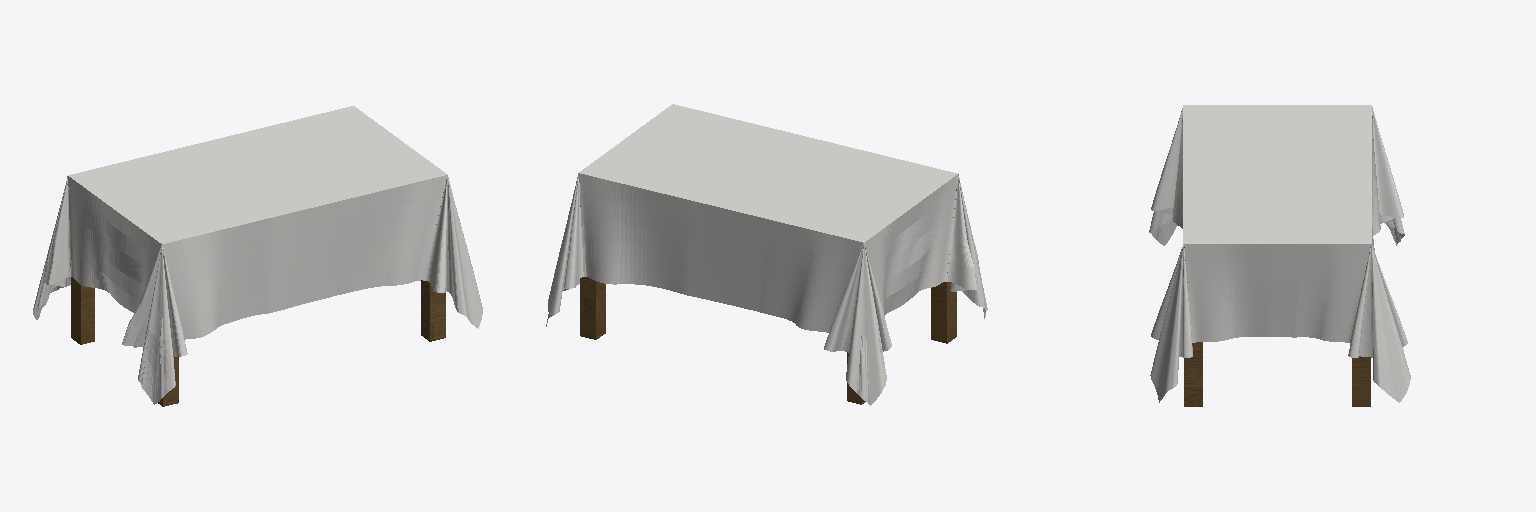
3 renders of one model, left to right at view 1: azimuth 30°, elevation 25°; view 2: azimuth 150°, elevation 25°; view 3: azimuth 270°, elevation 25°, orthographic.
Visible parts, largest first — view 1: Mesh10 Group3 Group1 Model, Mesh5 Group7 Group3 Group1 Model, Mesh6 Group8 Group3 Group1 Model, Mesh7 Group9 Group3 Group1 Model, Mesh8 Group10 Group3 Group1 Model, Mesh1 Group2 Group1 Model, Mesh2 Group4 Group3 Group1 Model; view 2: Mesh10 Group3 Group1 Model, Mesh4 Group6 Group3 Group1 Model, Mesh6 Group8 Group3 Group1 Model, Mesh2 Group4 Group3 Group1 Model, Mesh1 Group2 Group1 Model, Mesh7 Group9 Group3 Group1 Model, Mesh9 Group11 Group3 Group1 Model; view 3: Mesh10 Group3 Group1 Model, Mesh3 Group5 Group3 Group1 Model, Mesh9 Group11 Group3 Group1 Model, Mesh8 Group10 Group3 Group1 Model, Mesh1 Group2 Group1 Model, Mesh7 Group9 Group3 Group1 Model, Mesh2 Group4 Group3 Group1 Model, Mesh5 Group7 Group3 Group1 Model, Mesh4 Group6 Group3 Group1 Model.
Part boxes in pixels (x1,y1,x2,y2): Mesh10 Group3 Group1 Model: (68,106,447,243); Mesh5 Group7 Group3 Group1 Model: (163,175,446,339); Mesh6 Group8 Group3 Group1 Model: (68,176,161,312); Mesh7 Group9 Group3 Group1 Model: (122,244,187,404); Mesh8 Group10 Group3 Group1 Model: (424,175,482,328); Mesh1 Group2 Group1 Model: (71,192,445,406); Mesh2 Group4 Group3 Group1 Model: (33,176,70,319); Mesh10 Group3 Group1 Model: (579,104,957,242); Mesh4 Group6 Group3 Group1 Model: (579,173,862,332); Mesh6 Group8 Group3 Group1 Model: (865,175,957,315); Mesh2 Group4 Group3 Group1 Model: (824,243,891,405); Mesh1 Group2 Group1 Model: (580,189,956,404); Mesh7 Group9 Group3 Group1 Model: (947,174,987,318); Mesh9 Group11 Group3 Group1 Model: (546,173,583,326); Mesh10 Group3 Group1 Model: (1183,105,1371,243); Mesh3 Group5 Group3 Group1 Model: (1184,244,1370,342); Mesh9 Group11 Group3 Group1 Model: (1348,244,1410,402); Mesh8 Group10 Group3 Group1 Model: (1150,244,1192,402); Mesh1 Group2 Group1 Model: (1184,247,1370,406); Mesh7 Group9 Group3 Group1 Model: (1149,108,1182,245); Mesh2 Group4 Group3 Group1 Model: (1372,107,1404,245); Mesh5 Group7 Group3 Group1 Model: (1172,123,1182,228); Mesh4 Group6 Group3 Group1 Model: (1372,118,1380,250).
Size of the model in its own units: 170 by 77.15 by 112.
Materials: 2 (1 with a texture image).